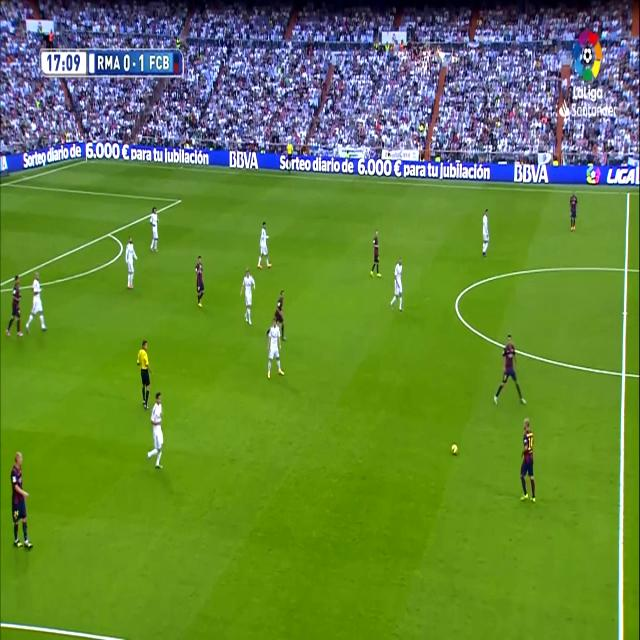bigarea_bottom_outter: (107, 227, 113, 240)
halfcircle_bottom: (618, 357, 630, 388)
halfcircle_top: (621, 256, 632, 282)
midline_top_intersection: (624, 187, 632, 201)
